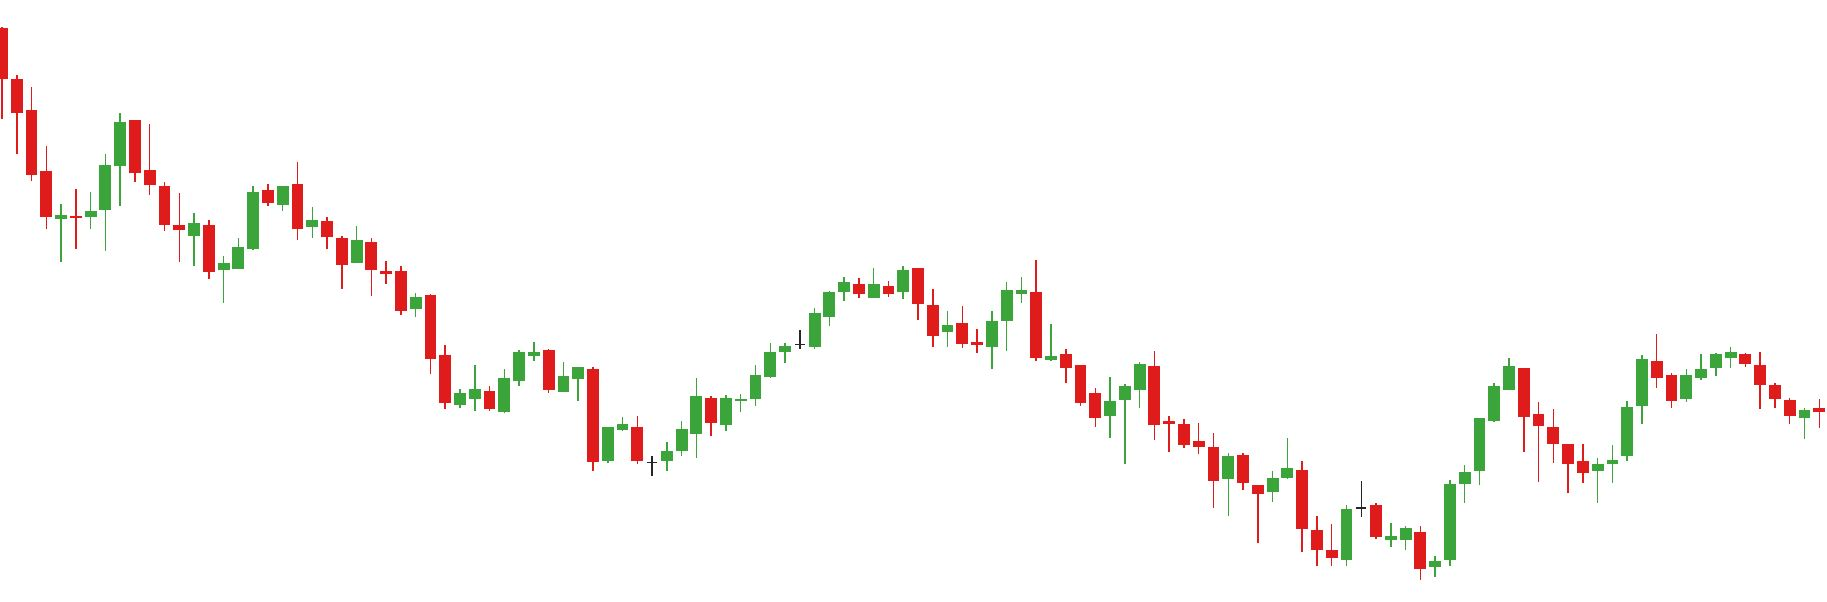sell: (1500, 332, 1665, 440)
